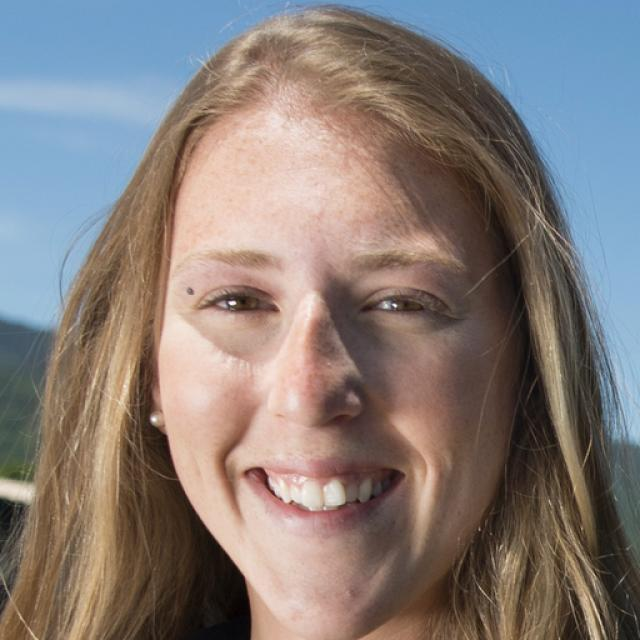happy: (149, 110, 519, 628)
